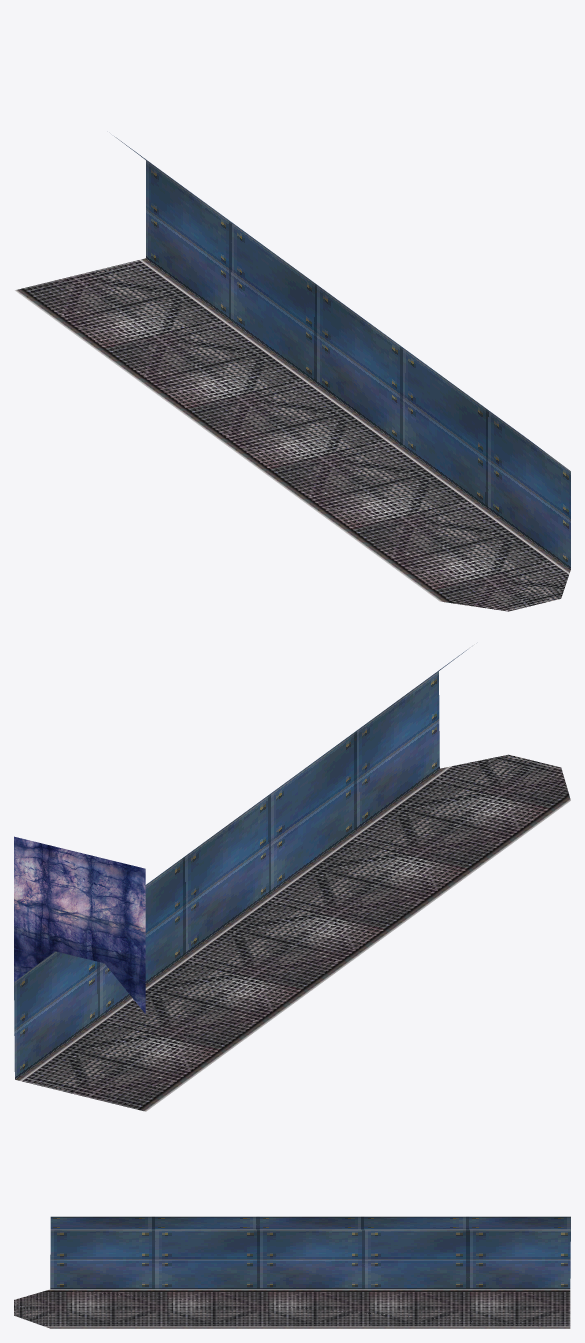
Rendered from lasthall.glb.
The picture shows the model from 3 angles, top to bottom: view 1: azimuth 30°, elevation 25°; view 2: azimuth 150°, elevation 25°; view 3: azimuth 270°, elevation 25°; orthographic projection. The views are drawn at different scales.
Parts seen in each view (by area): view 1: lasthall; view 2: lasthall; view 3: lasthall.
Boxes of the visible parts, x1,y1,x2,y2 form: lasthall: (15,136,570,611); lasthall: (14,649,570,1111); lasthall: (14,1216,570,1328).
Size of the model in its own units: 413 by 730 by 2472.
3 materials, 3 textured.
